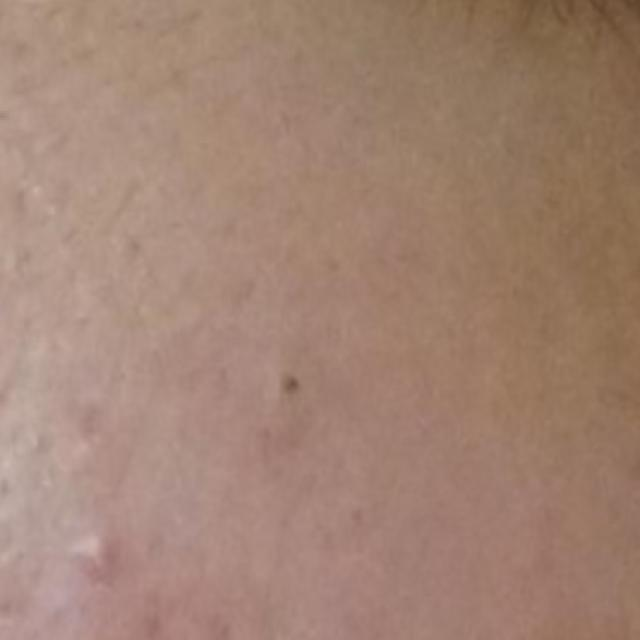blackhead: (283, 375, 300, 395)
